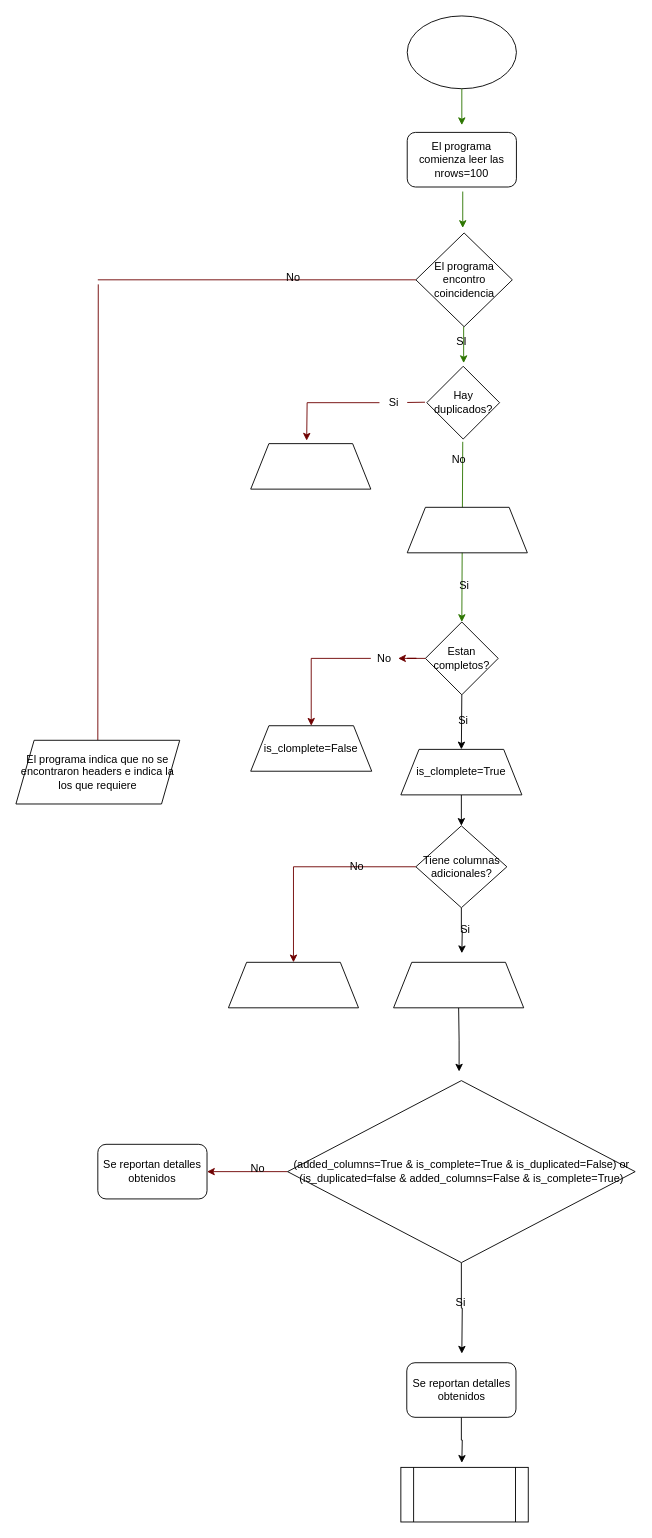
Image size: 652x1538. Some labels were removed from this diagram. The shapes that lost their labels are listed below. From the top down, each one's centre as x and y in pixels, then its label:
pixel 461 52: INICIO
pixel 310 466: is_duplicated=True
pixel 466 529: is_duplicated=False
pixel 293 984: added_columns=True
pixel 458 984: added_columns=False
pixel 464 1494: El prgrama procede a analizar contenido
